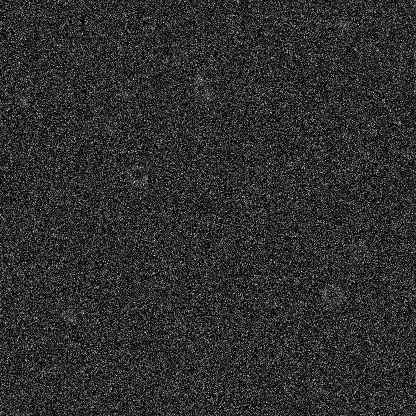Ring: (346, 240, 370, 264), (220, 25, 244, 49), (124, 163, 148, 187), (319, 282, 343, 306)
Spot: (14, 92, 30, 108), (116, 85, 132, 101), (101, 121, 117, 137), (187, 238, 203, 254), (62, 307, 78, 323), (43, 222, 59, 238), (199, 86, 215, 102), (191, 71, 207, 87), (334, 16, 350, 32)
